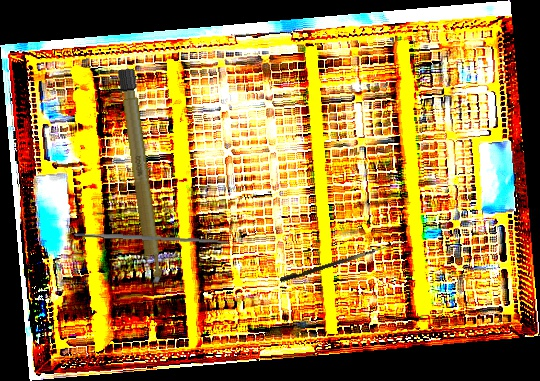Hook Surgical: (279, 236, 403, 285)
Scalpel Handle: (116, 68, 165, 286), (72, 230, 231, 246)
